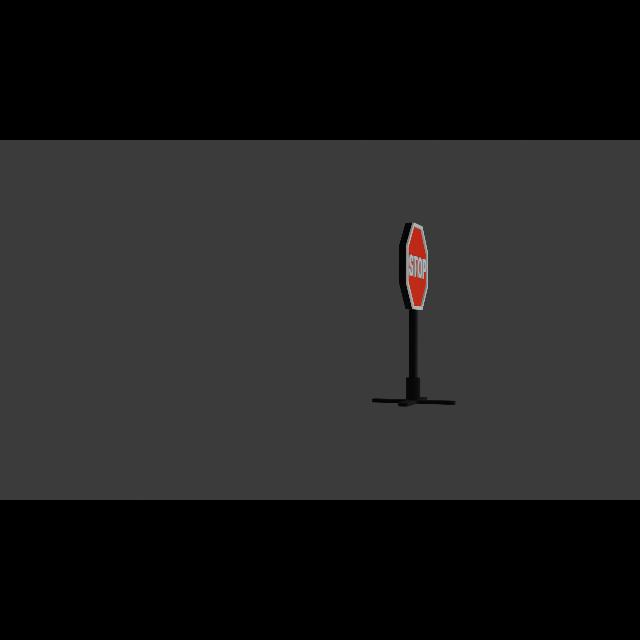sign_stop: (399, 223, 429, 312)
